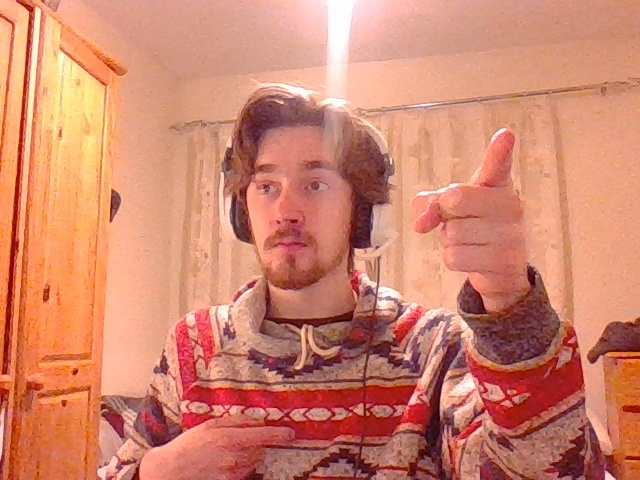you: (414, 128, 531, 292)
